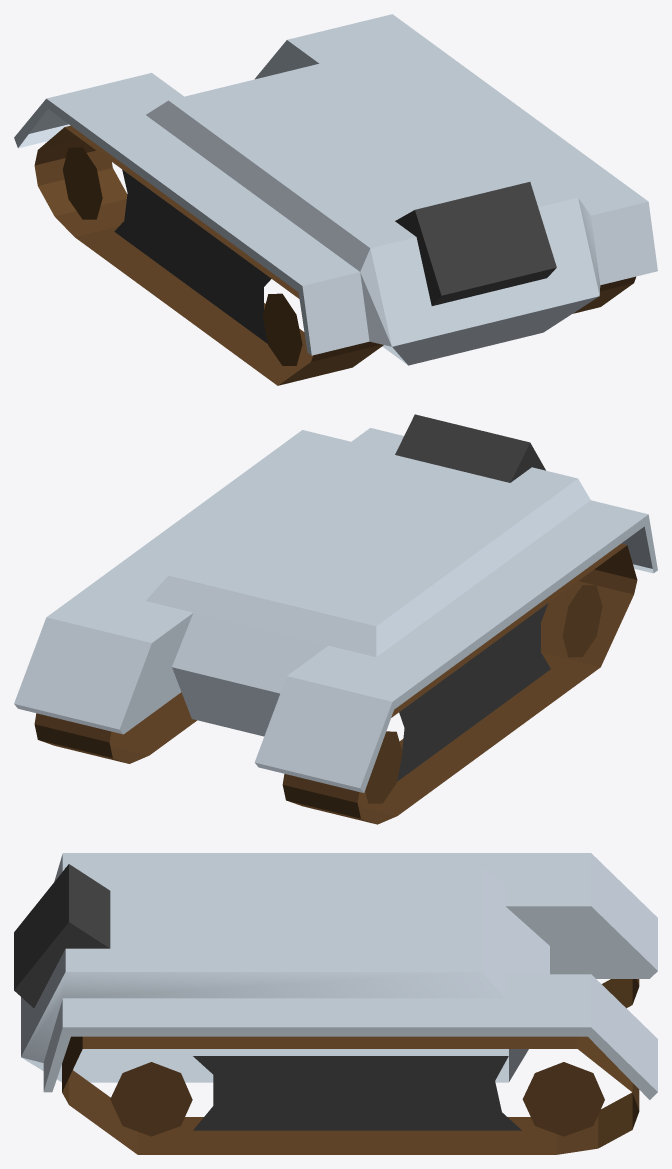
The model's file is TankBody.obj.
3 views of the same model, one above another, from view 1: azimuth 30°, elevation 25°; view 2: azimuth 150°, elevation 25°; view 3: azimuth 270°, elevation 25° (orthographic). The views are drawn at different scales.
Visible parts, largest first — view 1: body; view 2: body; view 3: body.
Part boxes in pixels (x1=…): body: x1=14, y1=14, x2=657, y2=385; body: x1=14, y1=414, x2=657, y2=824; body: x1=14, y1=853, x2=657, y2=1154.
Bounding box in the file's own units: 1.19 × 0.5749 × 1.86.
